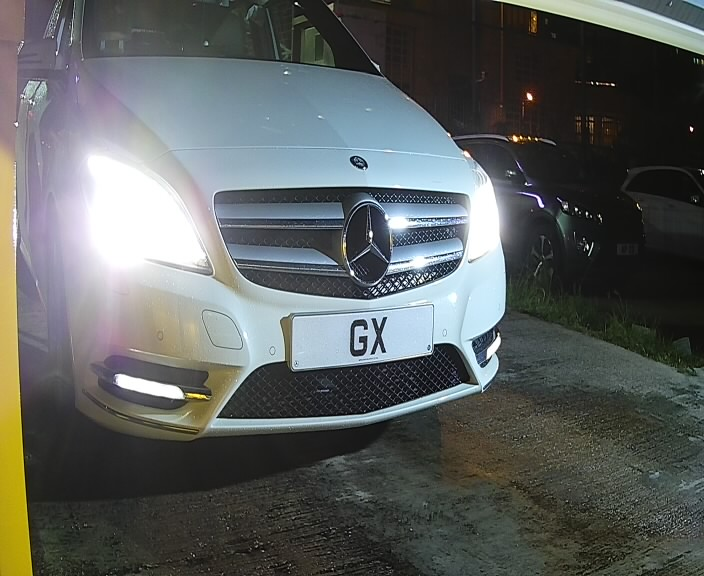Car: (2, 2, 529, 458)
License Plate: (269, 295, 445, 384)
